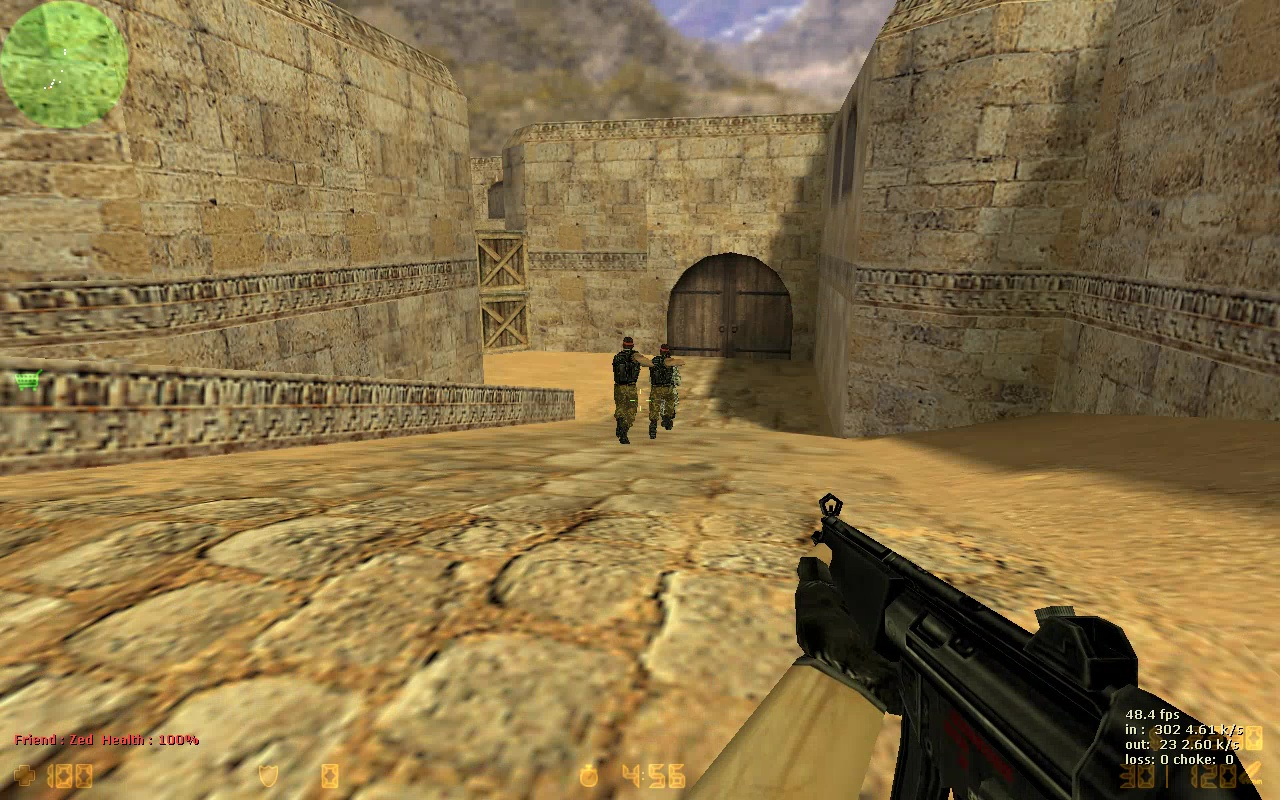terr1: (613, 339, 647, 443), (651, 337, 675, 443)
